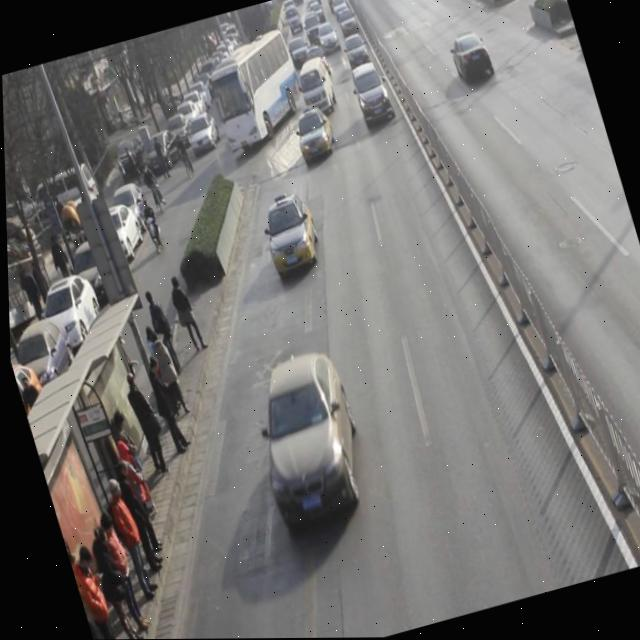car: (234, 347, 380, 539), (256, 191, 327, 280), (348, 60, 398, 132), (288, 105, 341, 165), (447, 30, 498, 88), (341, 32, 373, 73)
truck: (292, 55, 339, 117)
van: (198, 27, 311, 156)
